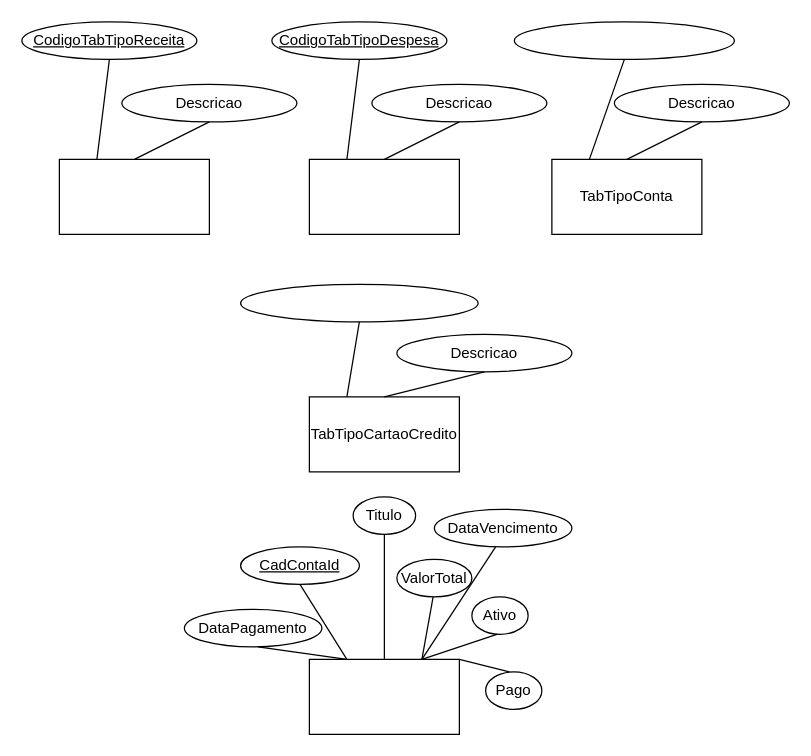
Some shapes in this 811 by 756 pixel diagram are drawn without their labels. The centre of each missing label's shape, as x and y in pixels:
"CadConta" goes at point 383,696.
"CodigoTabTipoCartaoCredito" goes at point 358,302.
"CodigoTabTipoConta" goes at point 623,40.
"TabTipoDespesa" goes at point 383,196.
"TabTipoReceita" goes at point 133,196.
